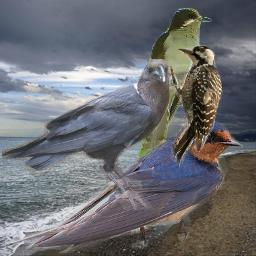Crow: (2, 59, 170, 210)
Cuckoo: (136, 8, 212, 178)
Swallow: (3, 116, 243, 253)
Woodpecker: (166, 42, 223, 169)
